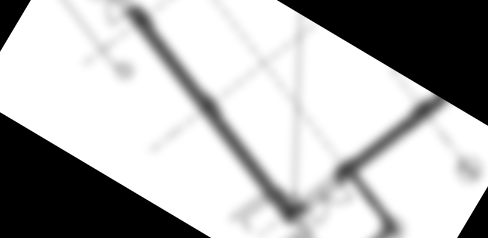double door: (301, 172, 359, 235), (76, 0, 139, 30)
